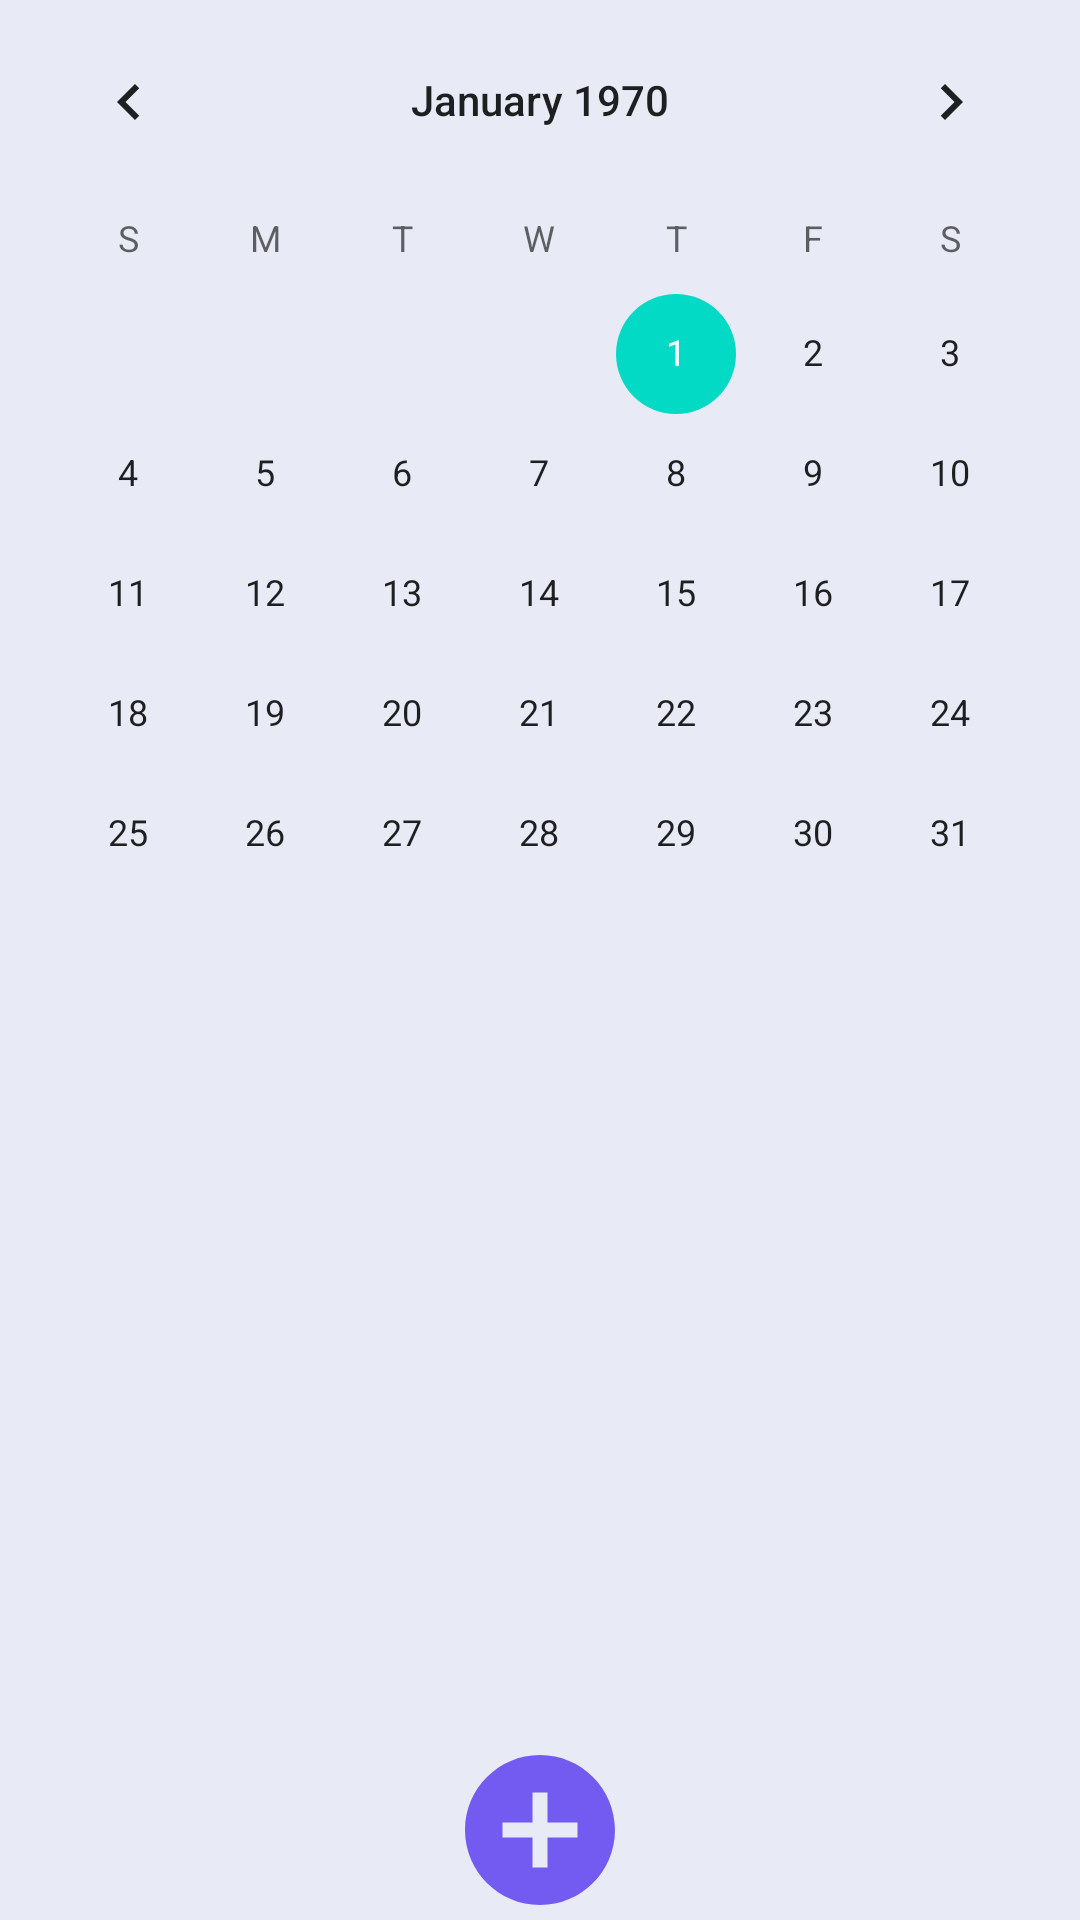

Where icons sit on this 1080x1920 app screen, as (x1, y1, x2, y2):
add event: (465, 1755, 615, 1905)
